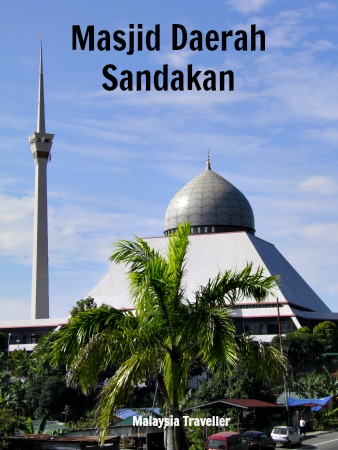Mosque: (6, 32, 311, 375)
